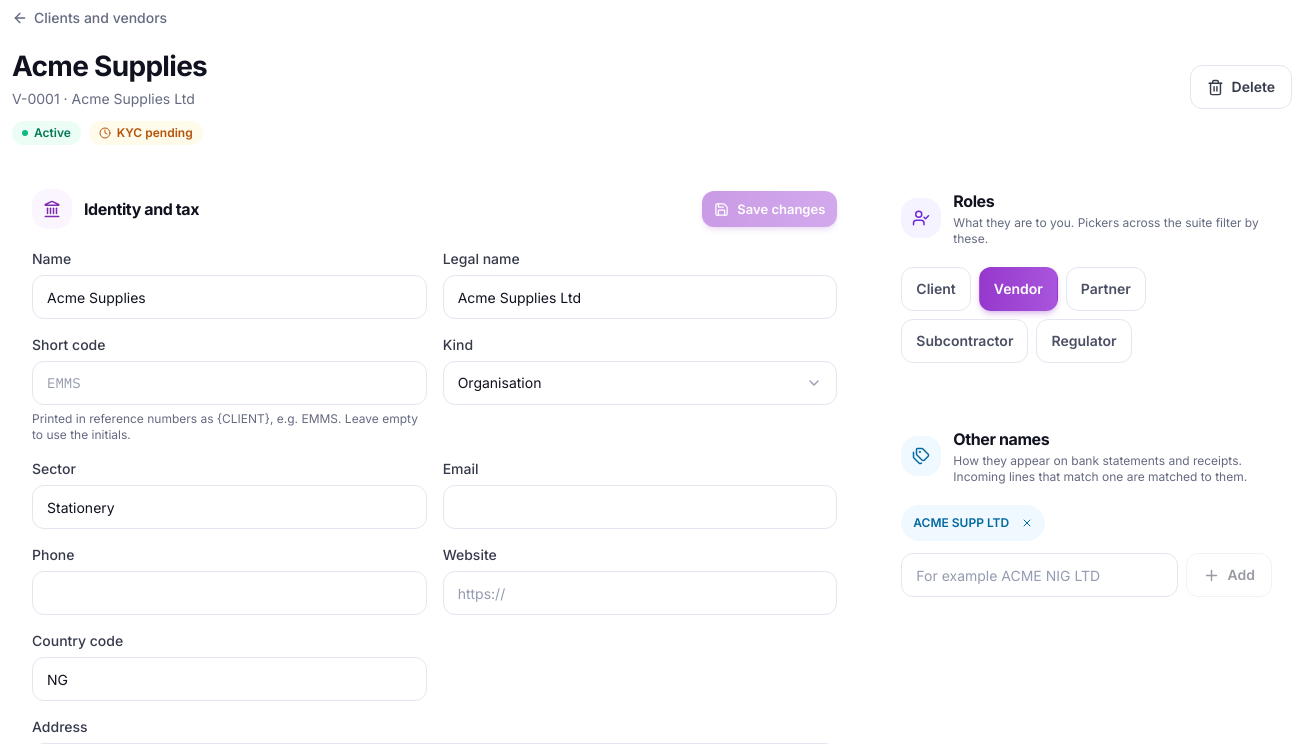
it: the record › adds another name, and shows when another company already has it
Type "ACME NIG" into the field named "Another name" at (1039, 575), box [901, 553, 1178, 597]
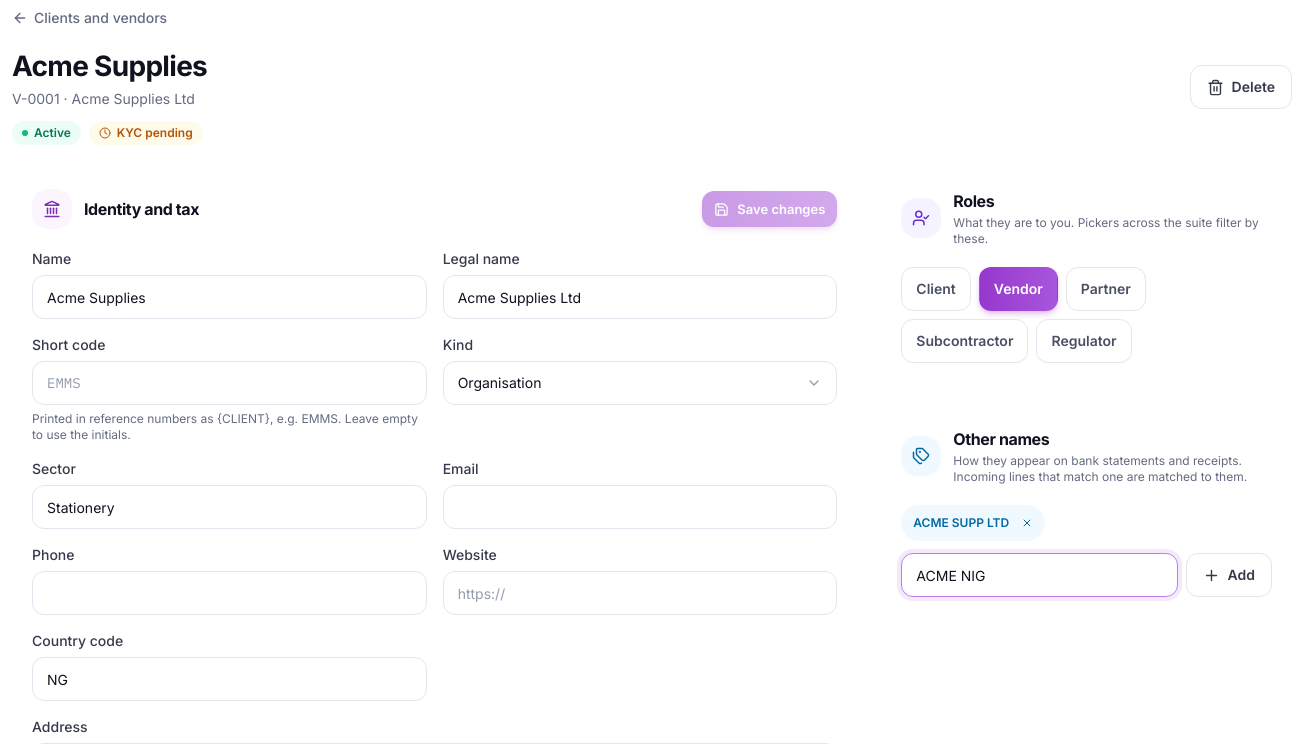
Click the button with aria-label "Add name" at (1229, 575), box [1186, 553, 1272, 597]
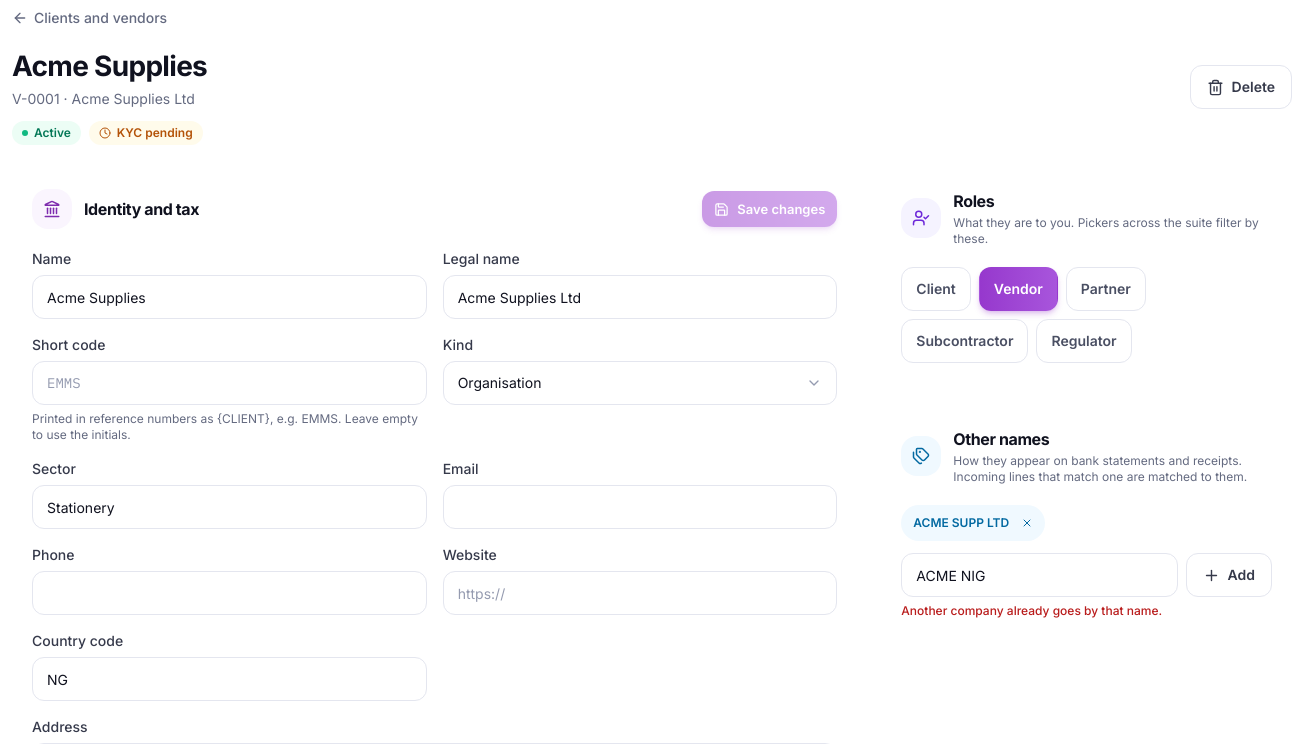
Expected: the text "Another company already goes by that name." is shown, [901, 603, 1162, 618]
